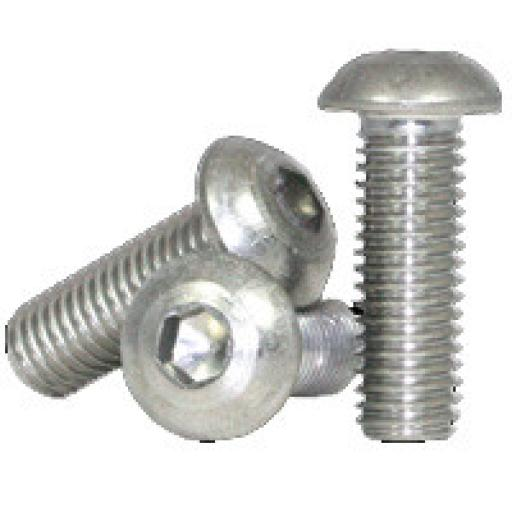Hex-Allen: (122, 251, 298, 445)
